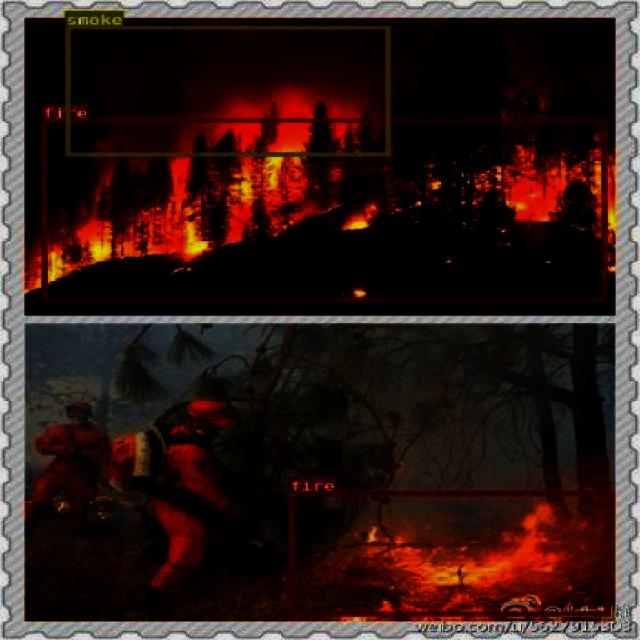fire: (40, 117, 606, 300), (288, 490, 610, 616)
smoke: (64, 26, 390, 156)
